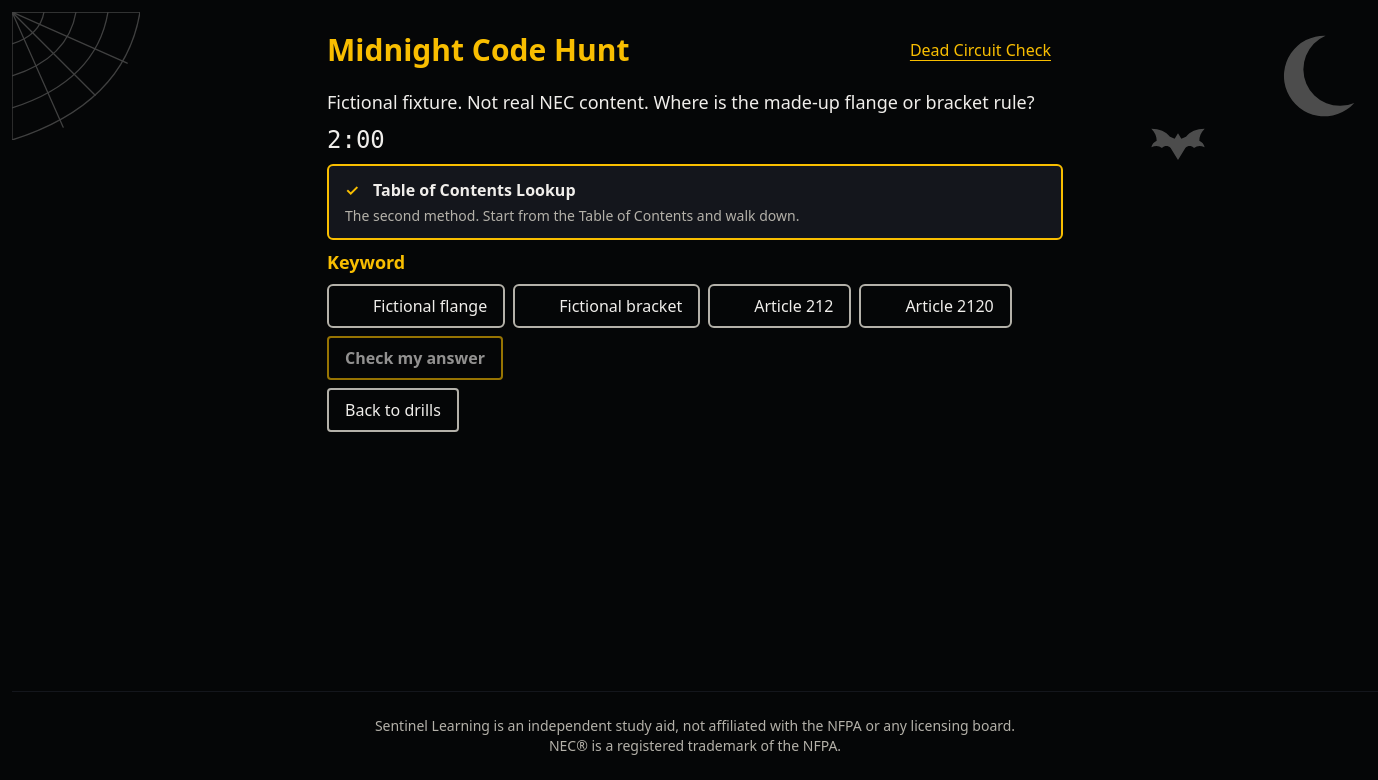
Test case: DrillScreen with two valid trails of one method › is incorrect, with a correct Keyword row and no best time, for keyword A with the steps of B
Click the button "Fictional flange". click: (416, 306)
box: [327, 284, 505, 328]
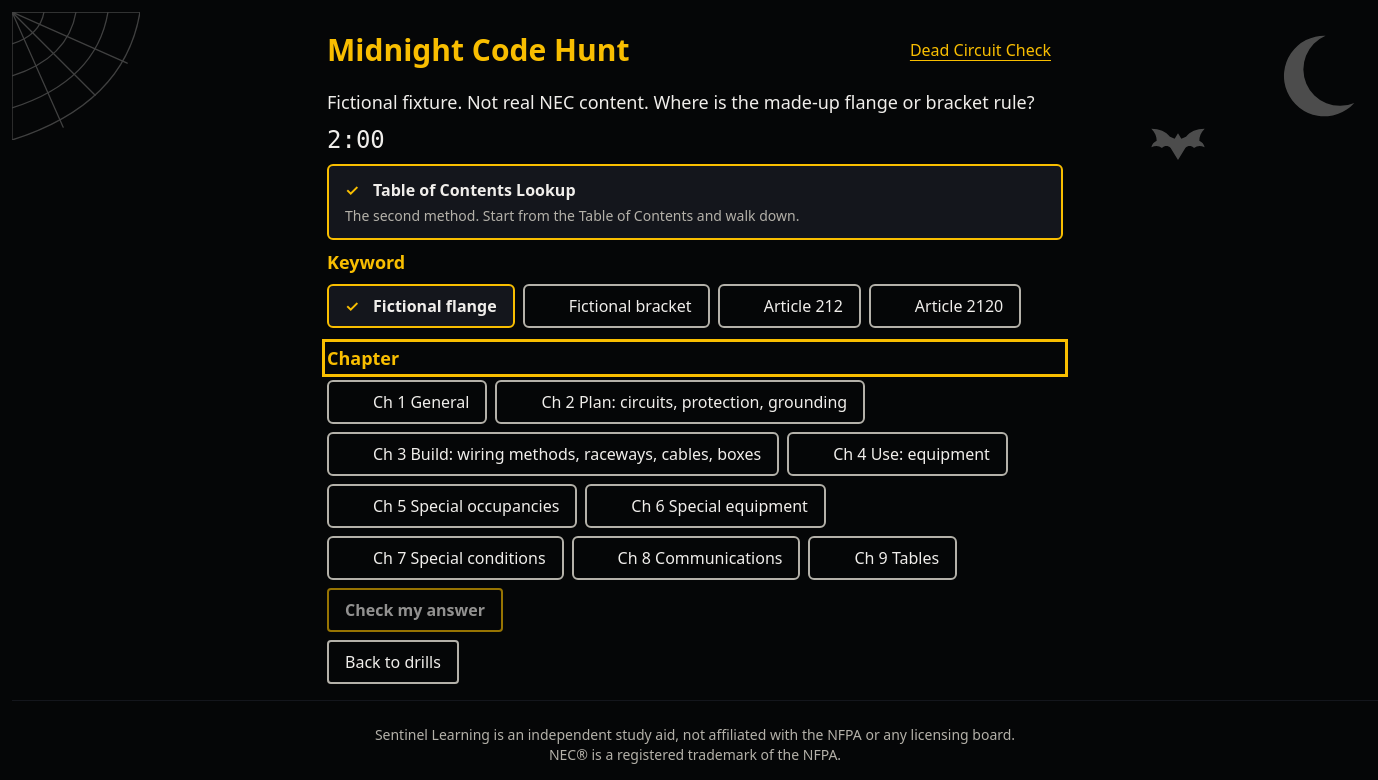
Click the button "Ch 7 Special conditions". click: (445, 558)
box: [327, 536, 564, 580]
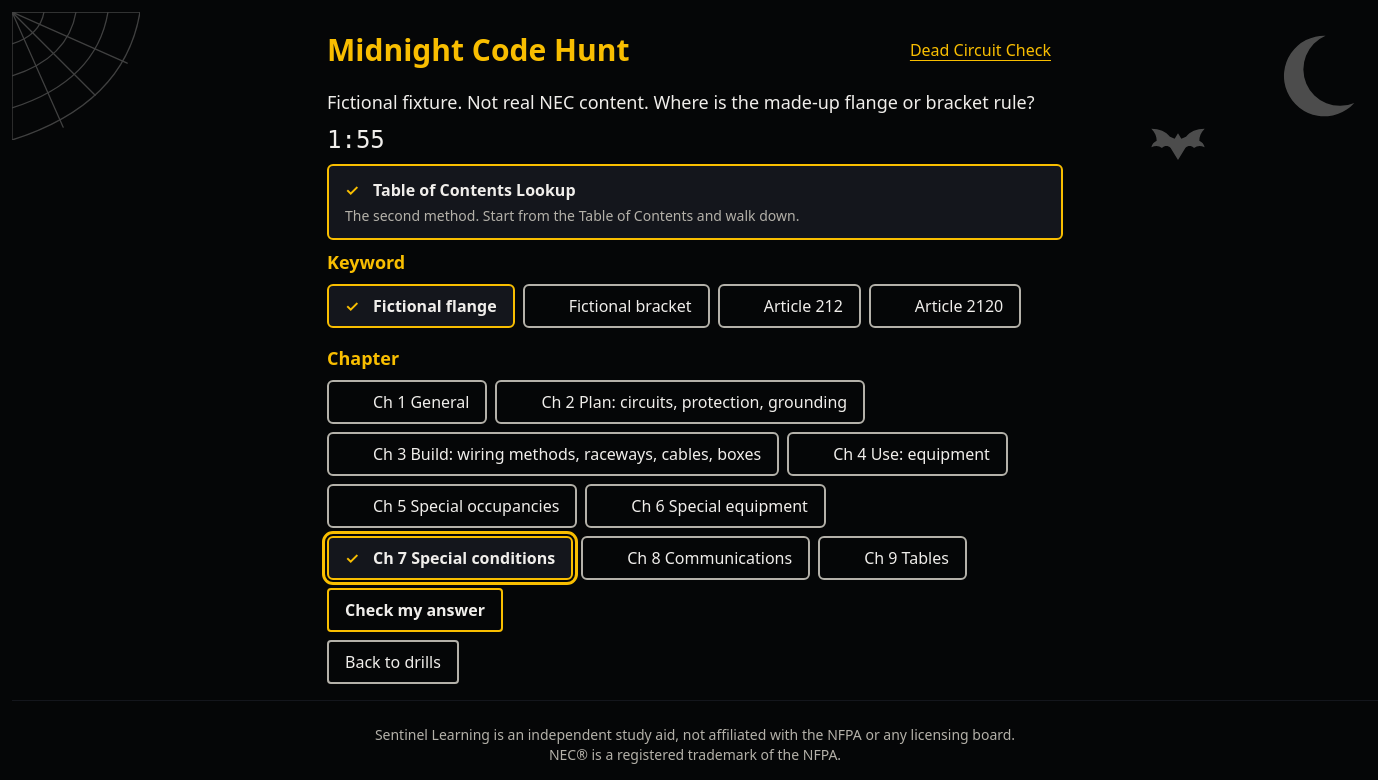
Click the button "Check my answer". click: (415, 610)
box: [327, 588, 503, 632]
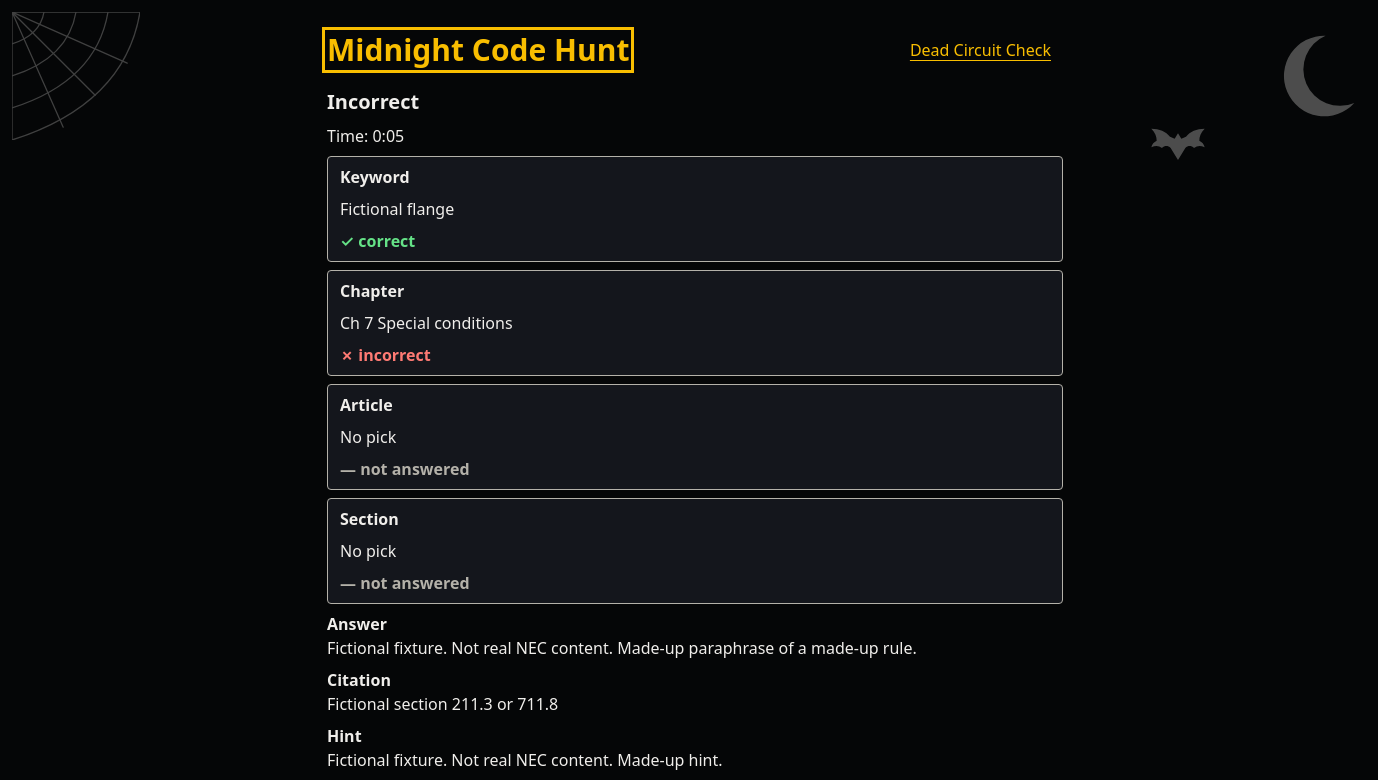
Now the text "Incorrect" is shown, box [327, 88, 419, 115]
Now the text "correct" is shown, box [358, 230, 415, 252]
